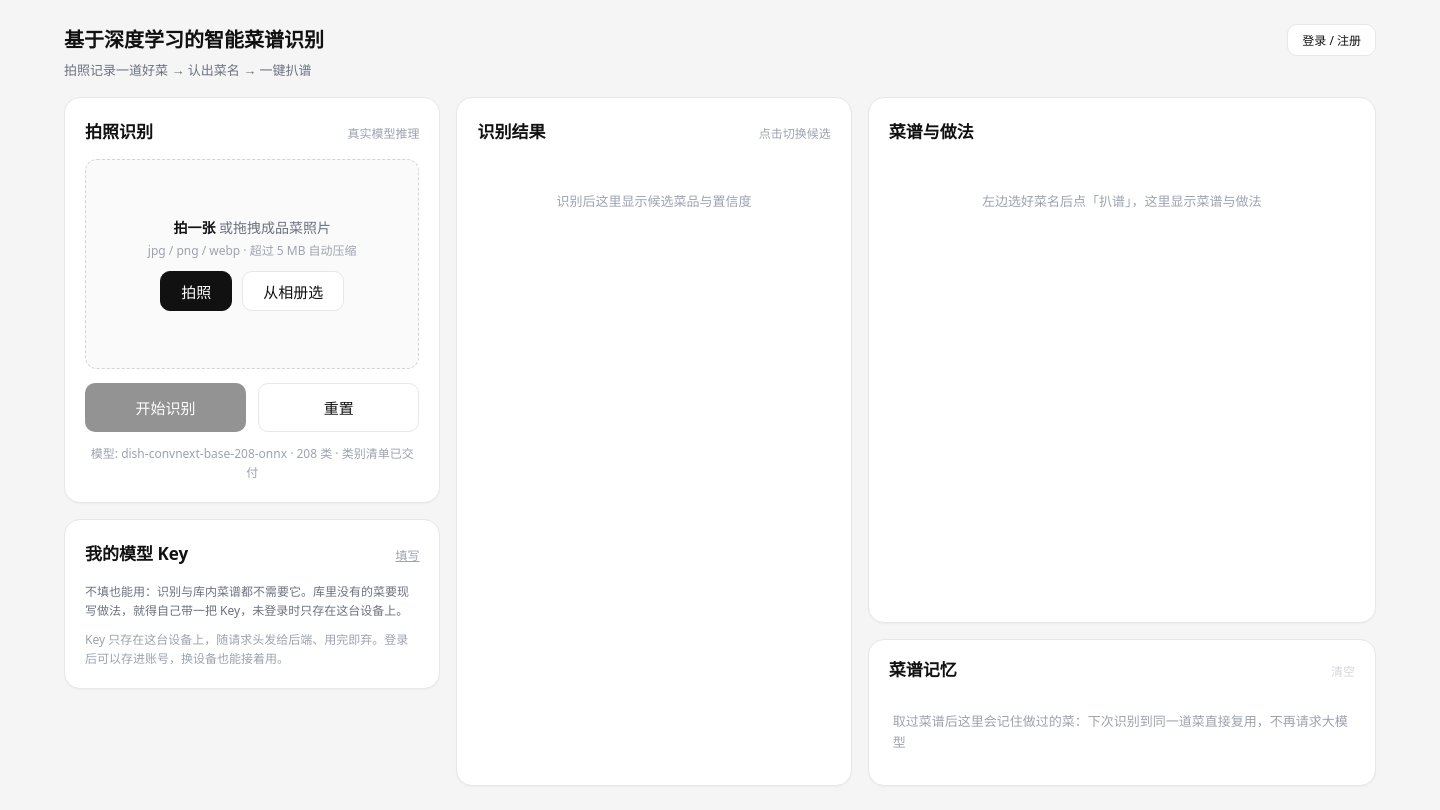
Scenario: RecipeRecommendPage 账号 › 登录成功后页头换成账号名，并把服务端那份记忆并进来
The width and height of the screenshot is (1440, 810).
Click the button "登录 / 注册": click(1332, 40) x1=1287 y1=24 x2=1376 y2=56
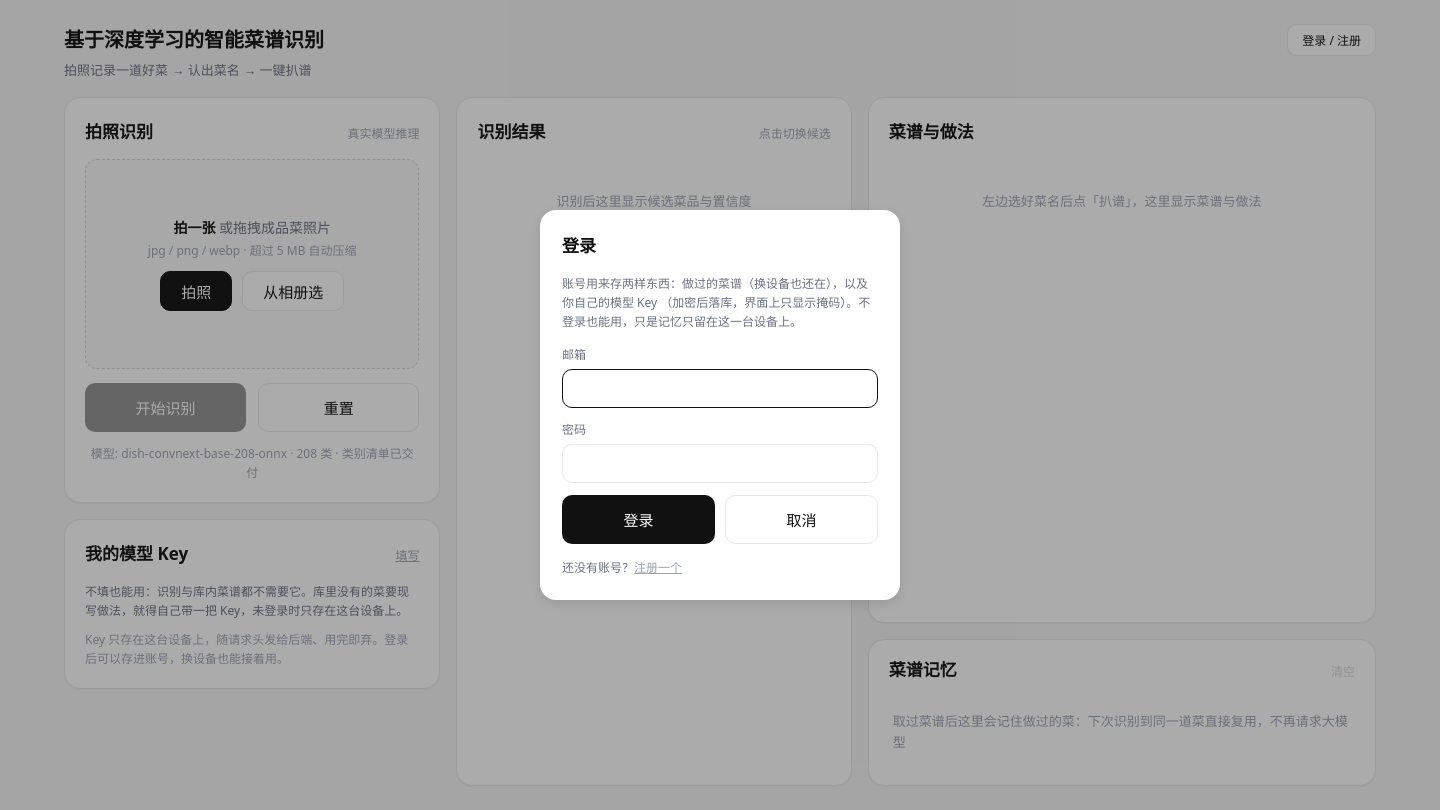
In the field labelled "邮箱": (720, 389) x1=562 y1=369 x2=878 y2=408, type "hakura@example.com"
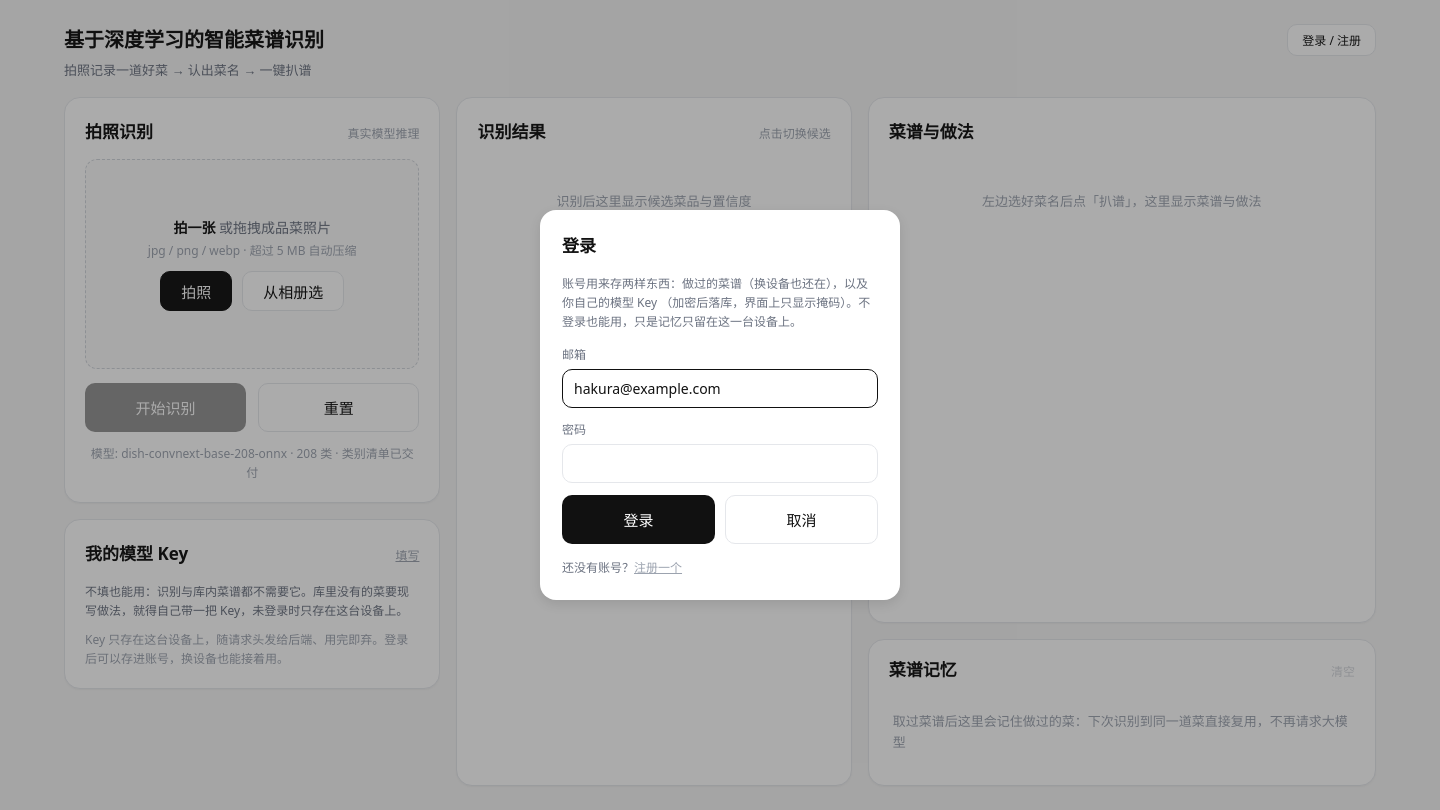
In the password field labelled "密码": (720, 464) x1=562 y1=444 x2=878 y2=484, type "password123"
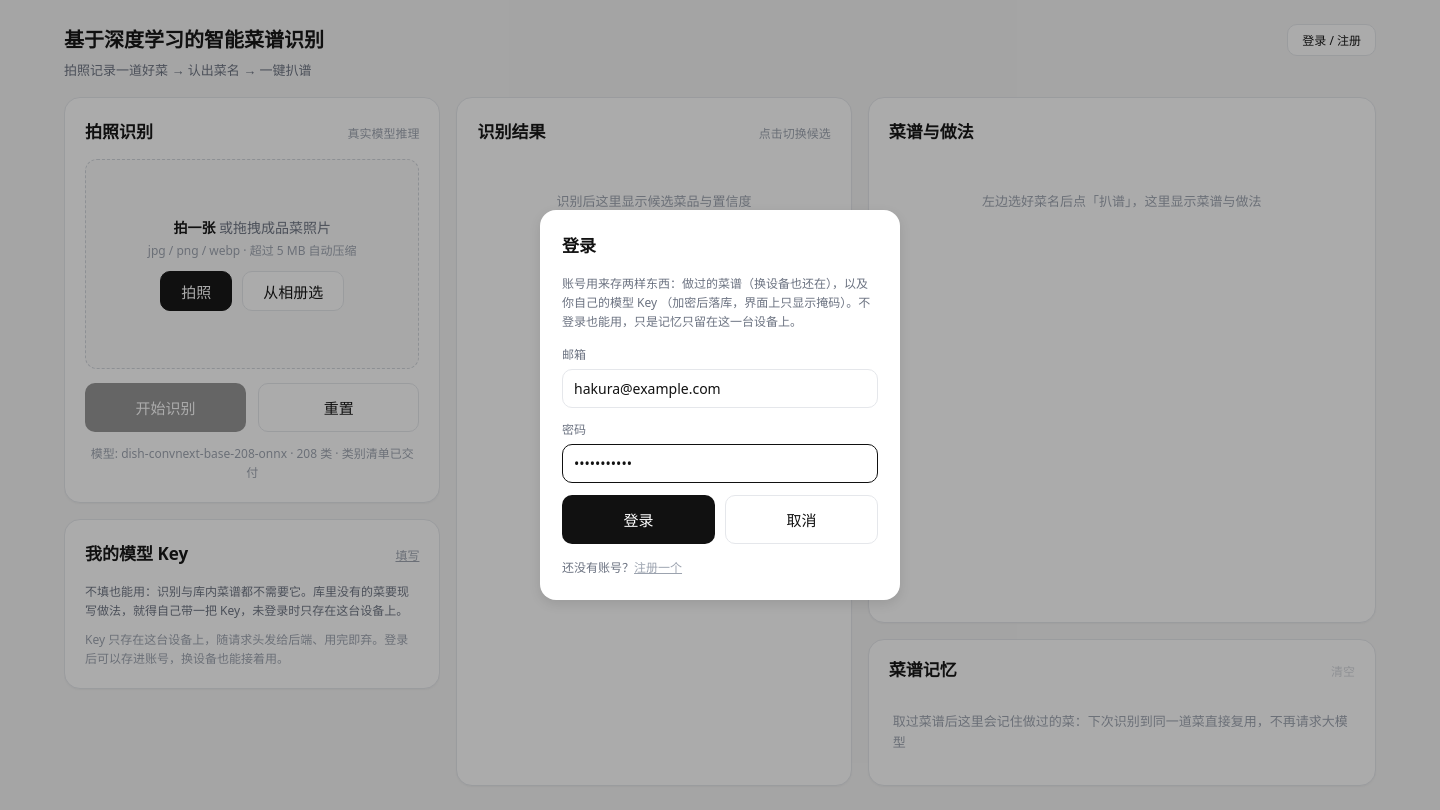
Click the button "登录": click(638, 520) x1=562 y1=496 x2=715 y2=544
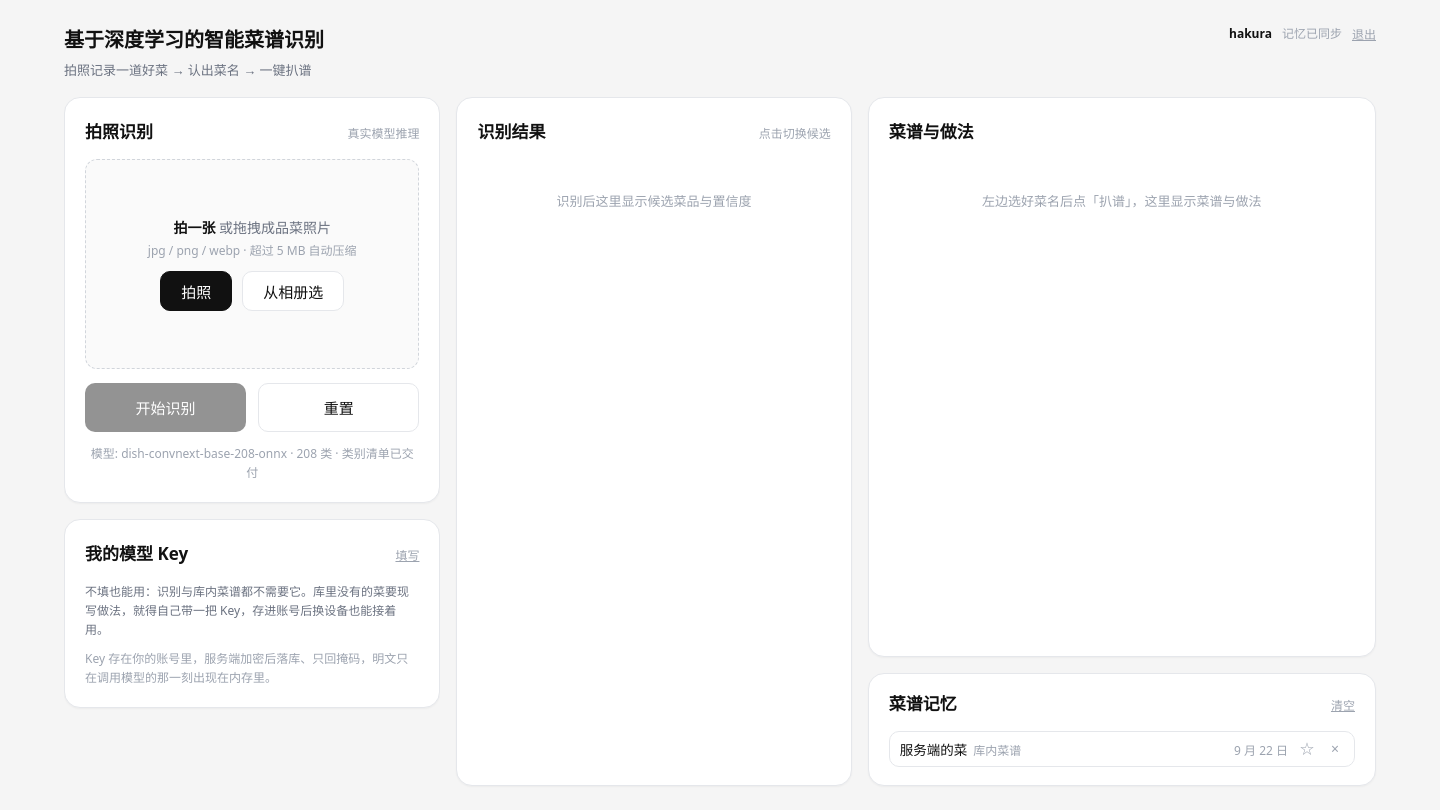
Check: the text "hakura" is shown, box x1=1229 y1=24 x2=1272 y2=43
Check: the button with aria-label "复用 服务端的菜" is shown, box x1=890 y1=732 x2=1292 y2=766
